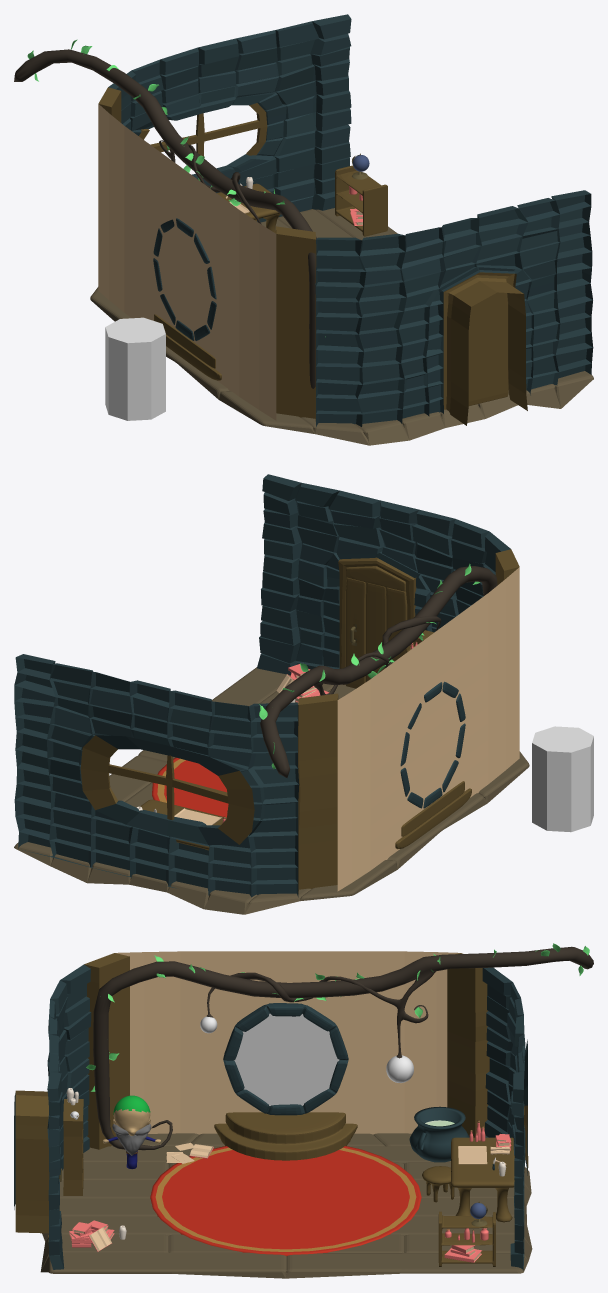
The model's file is floor.fbx.
3 renders of one model, top to bottom at view 1: azimuth 30°, elevation 25°; view 2: azimuth 150°, elevation 25°; view 3: azimuth 270°, elevation 25°, orthographic. The views are drawn at different scales.
Parts seen in each view (by area): view 1: Walls, Floor, Vine, WizardRef, Walls.001, Cube, PortalRim, Stairs, Table; view 2: Walls, Floor, WizardRef, Vine, Walls.001, Circle.002, PortalRim, Stairs, Table; view 3: Walls, Floor, Circle.002, Vine, Circle, Stairs, PortalRim, Table, Cylinder.001, Bookshelf, Cube, Body (+4 smaller).
Boxes of the visible parts, x1,y1,x2,y2 form: Walls: [98, 14, 593, 426]; Floor: [90, 208, 593, 445]; Vine: [14, 49, 316, 388]; WizardRef: [105, 317, 165, 420]; Walls.001: [463, 285, 508, 405]; Cube: [335, 165, 387, 236]; PortalRim: [153, 218, 216, 340]; Stairs: [154, 314, 221, 380]; Table: [217, 183, 280, 233]; Walls: [14, 474, 519, 897]; Floor: [14, 667, 529, 914]; WizardRef: [532, 726, 593, 832]; Vine: [260, 566, 497, 777]; Walls.001: [346, 566, 407, 688]; Circle.002: [152, 757, 228, 817]; PortalRim: [400, 681, 465, 808]; Stairs: [395, 781, 471, 849]; Table: [140, 799, 226, 850]; Walls: [14, 951, 528, 1270]; Floor: [40, 1133, 532, 1278]; Circle.002: [150, 1146, 421, 1256]; Vine: [93, 946, 593, 1150]; Circle: [234, 1013, 339, 1105]; Stairs: [214, 1112, 357, 1160]; PortalRim: [223, 1003, 348, 1115]; Table: [451, 1137, 514, 1222]; Cylinder.001: [409, 1106, 469, 1162]; Bookshelf: [63, 1099, 83, 1195]; Cube: [438, 1211, 495, 1266]; Body: [103, 1095, 160, 1169].
Size of the model in its own units: 655 by 367 by 834.
